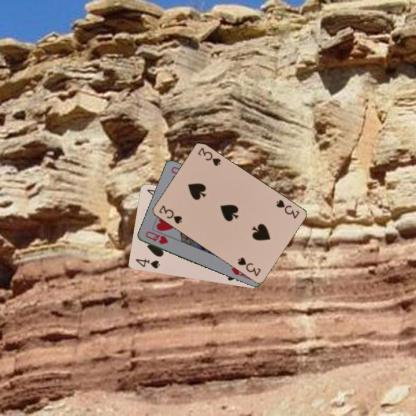3s: (274, 197, 300, 220), (156, 203, 183, 225)
4s: (133, 256, 161, 270)
Qh: (143, 228, 169, 245)
